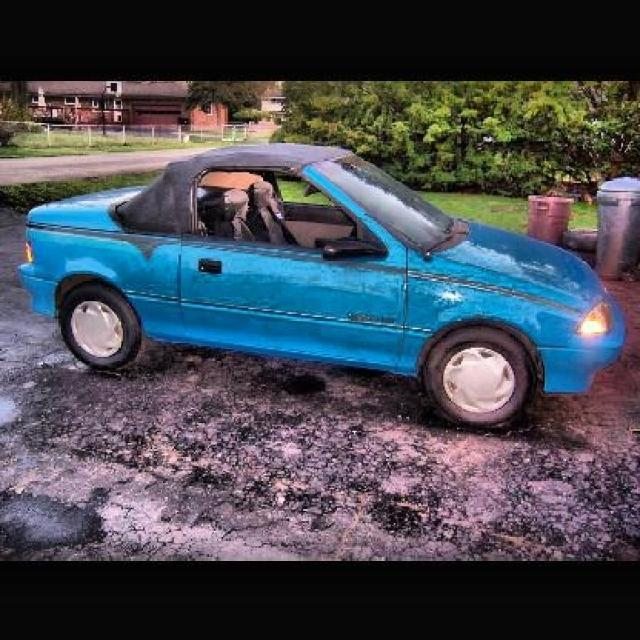blue: (37, 129, 640, 402)
